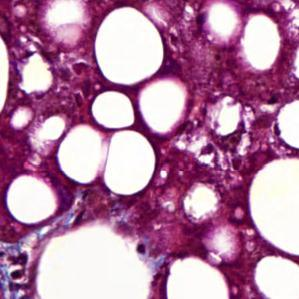steatosis: (95, 7, 163, 87), (250, 157, 299, 255), (93, 91, 136, 129)
